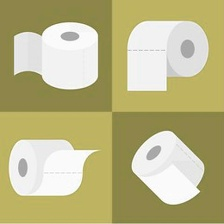tissue: (119, 14, 212, 95), (7, 16, 104, 93), (125, 124, 208, 209), (3, 133, 104, 200)
